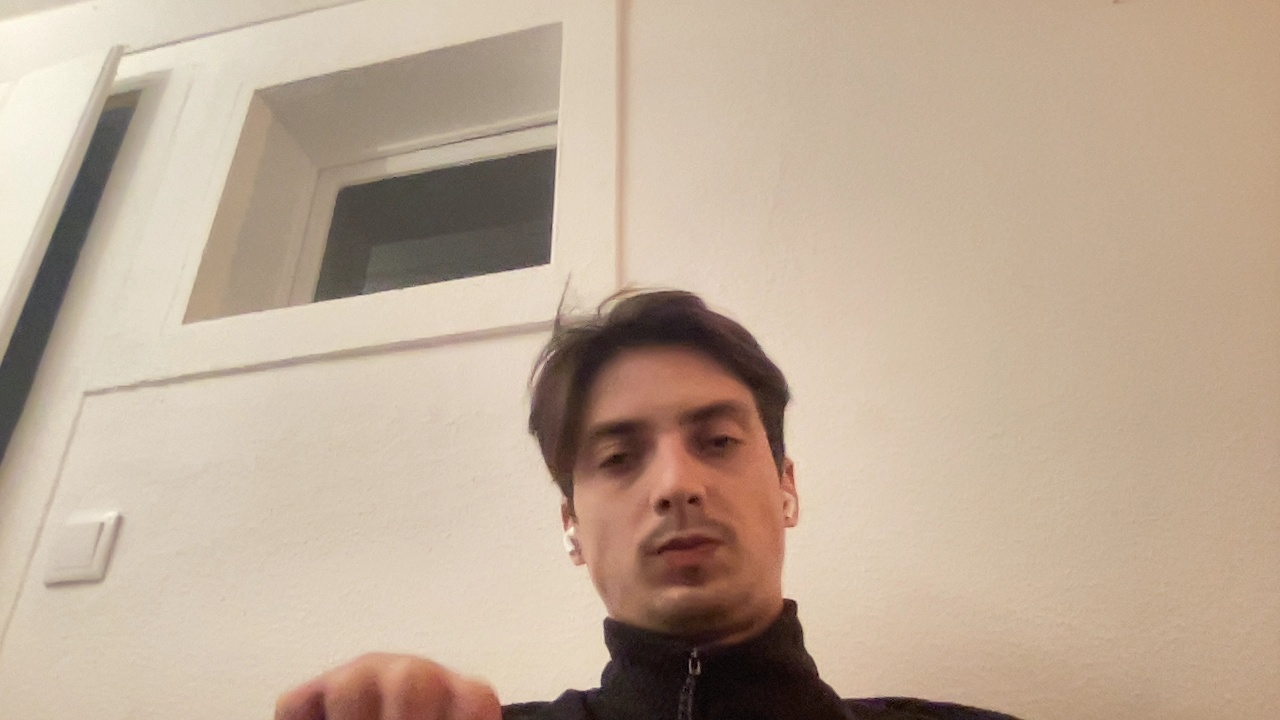no: (263, 645, 508, 720)
